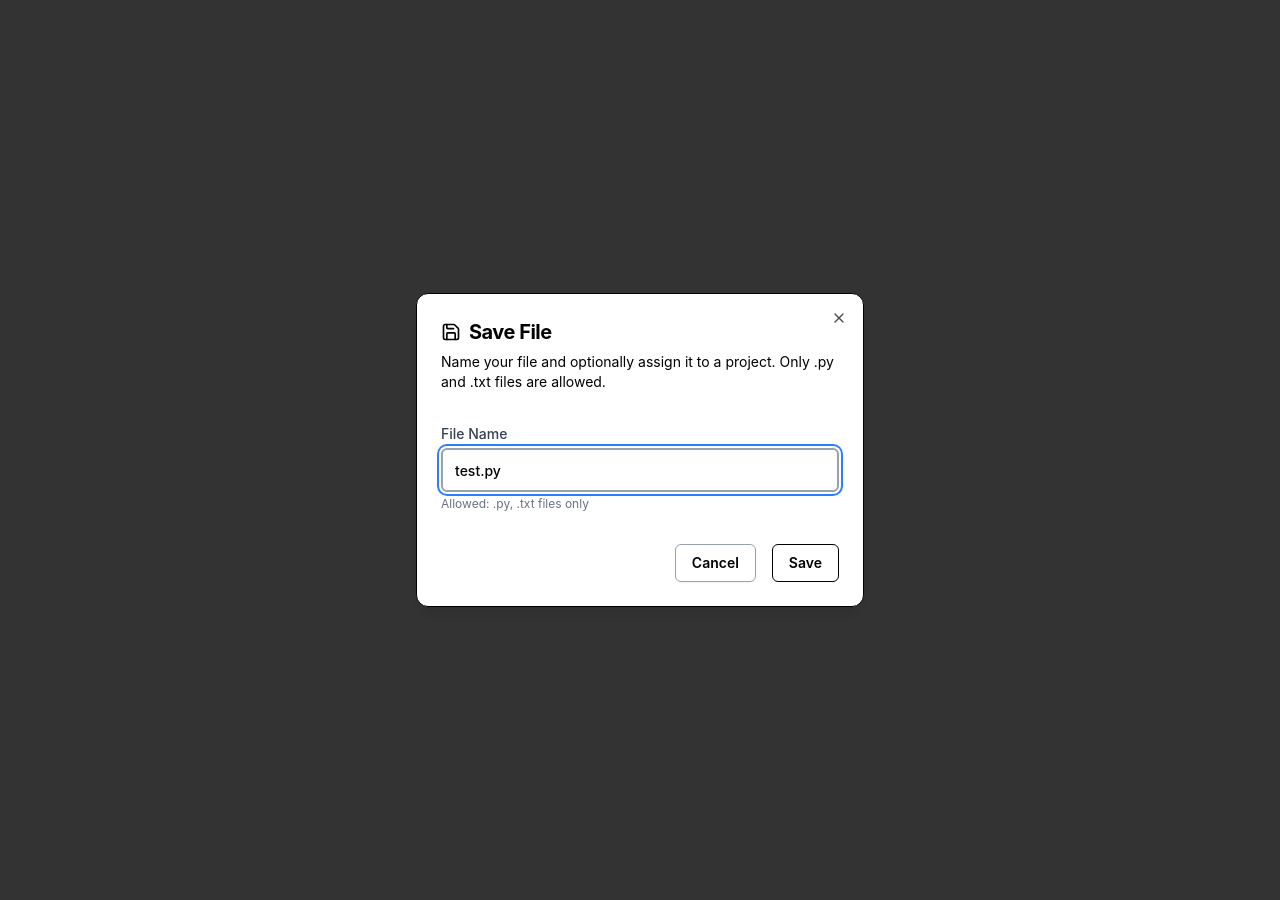
Test: SaveDialog › shows error for disallowed file extension
Replace the text in the field showing "test.py" with "image.png" at (640, 470), box 441,448 -> 839,492
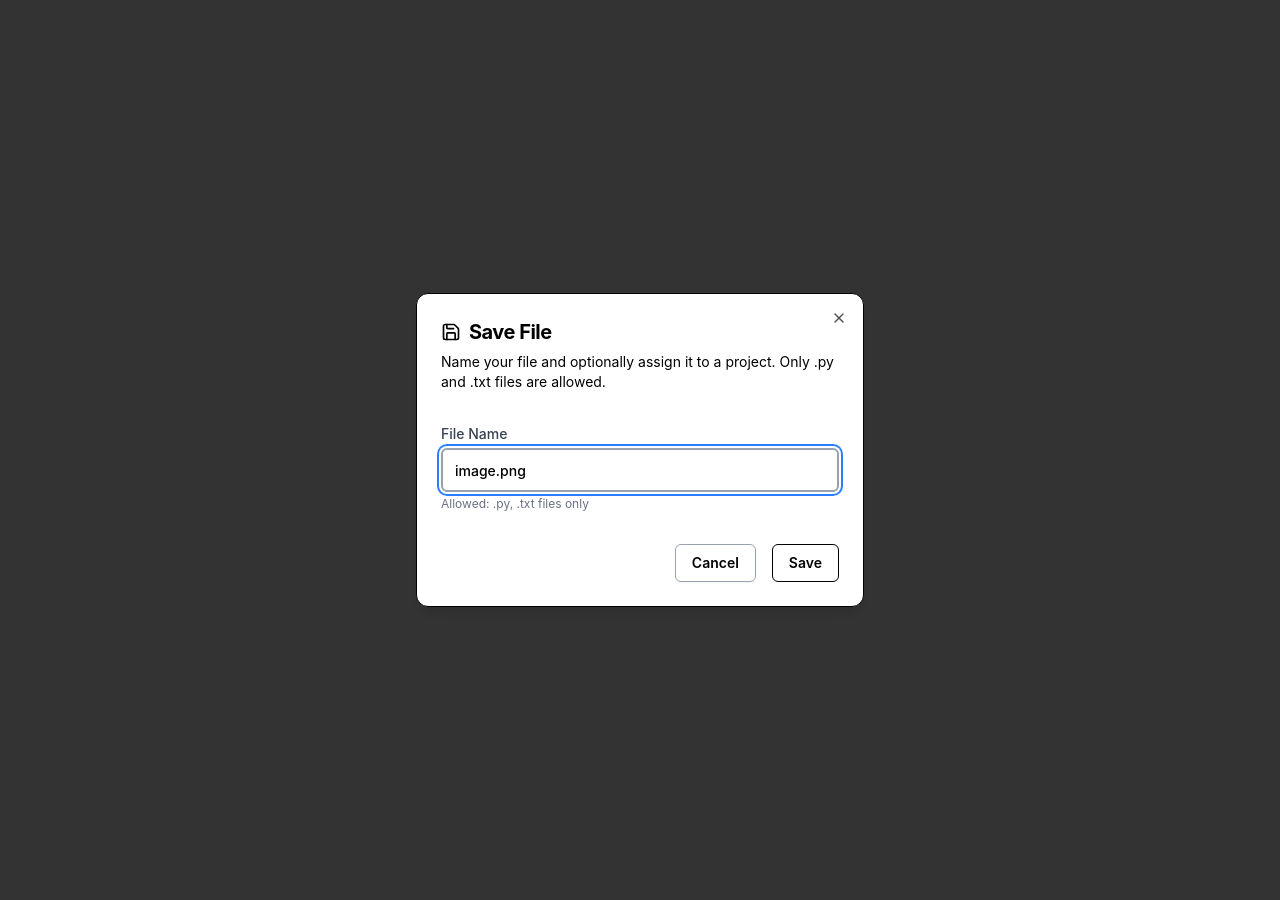
Click the button "Save" at (805, 563), box 772,544 -> 839,582
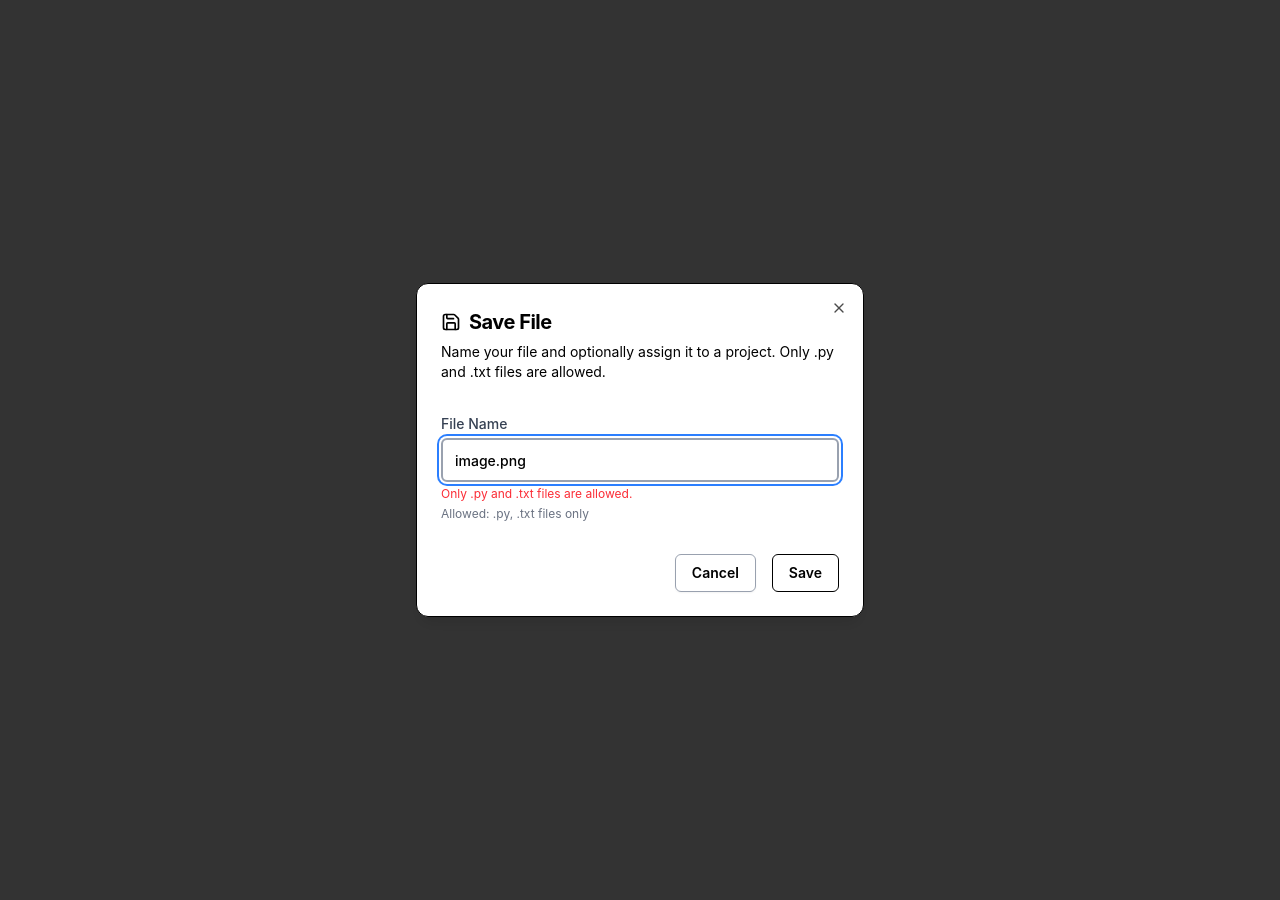
Now the text "Only .py and .txt files are allowed." is shown, box 441,486 -> 632,501
